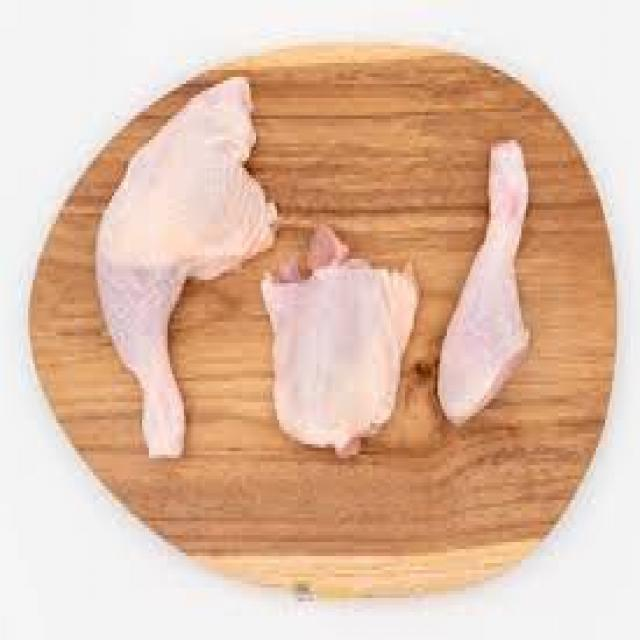chicken: (89, 75, 279, 465), (264, 227, 421, 473), (432, 139, 537, 433)
